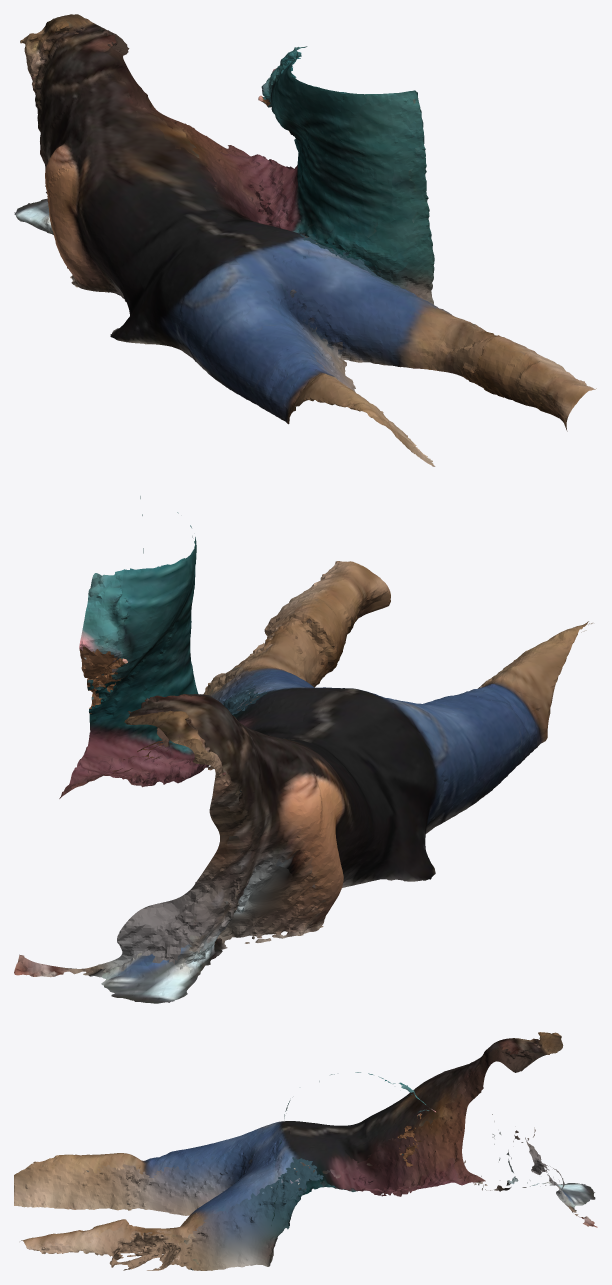
3 renders of one model, top to bottom at view 1: azimuth 30°, elevation 25°; view 2: azimuth 150°, elevation 25°; view 3: azimuth 270°, elevation 25°, orthographic. The views are drawn at different scales.
Bounding box in the file's own units: 0.6674 × 0.4747 × 1.53.
1 material, 1 textured.
